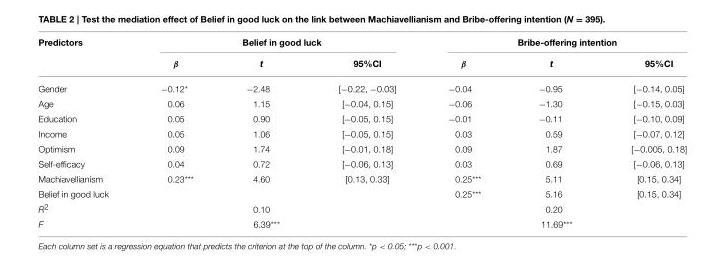table: (37, 37, 686, 228)
table column: (308, 37, 421, 228), (37, 37, 133, 228), (509, 37, 600, 228), (219, 37, 308, 228), (421, 37, 509, 228), (133, 37, 219, 228), (600, 37, 686, 228)
table column header: (37, 37, 686, 76)
table row: (37, 52, 686, 76), (37, 76, 686, 96), (37, 200, 686, 216), (37, 37, 686, 52), (37, 96, 686, 111), (37, 111, 686, 126), (37, 126, 686, 141), (37, 141, 686, 156), (37, 156, 686, 171), (37, 171, 686, 186), (37, 186, 686, 200), (37, 216, 686, 228)
table spanning cell: (133, 37, 421, 52), (421, 37, 686, 52), (37, 37, 133, 76)
